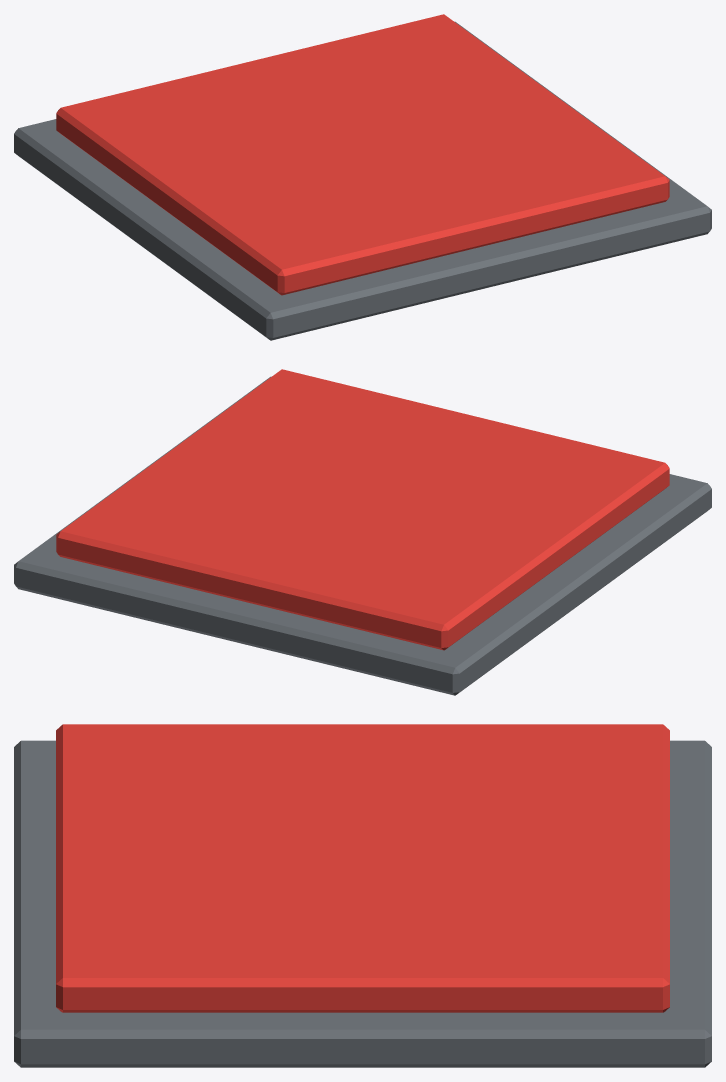
The model's file is trapdoor.glb.
3 views of the same model, one above another, from view 1: azimuth 30°, elevation 25°; view 2: azimuth 150°, elevation 25°; view 3: azimuth 270°, elevation 25° (orthographic). The views are drawn at different scales.
Parts seen in each view (by area): view 1: trapdoor; view 2: trapdoor; view 3: trapdoor.
Part boxes in pixels (box(x1,y1,x2,y2)): trapdoor: box(14, 14, 711, 340); trapdoor: box(14, 369, 711, 695); trapdoor: box(14, 724, 711, 1067).
Size of the model in its own units: 0.5 by 0.057 by 0.5.
